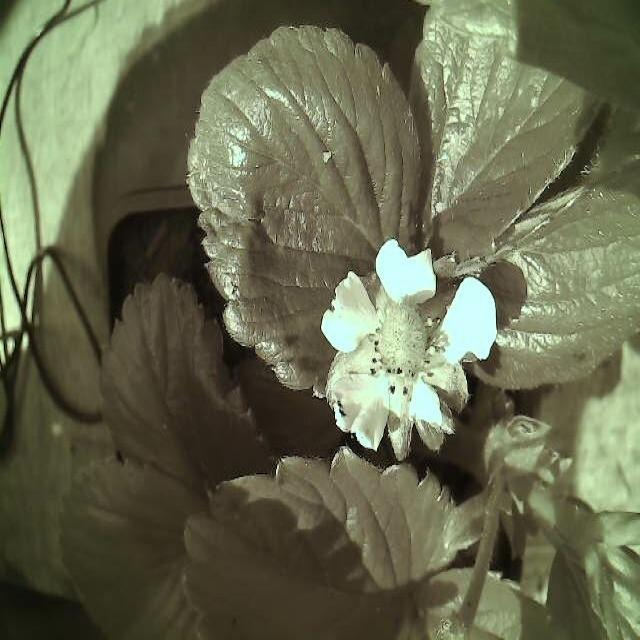flower: (316, 238, 506, 458)
